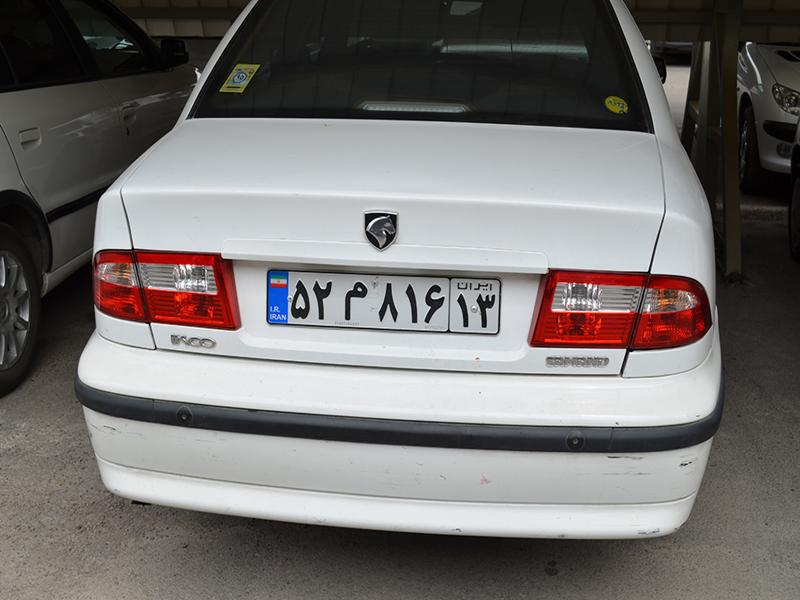Plate: (262, 262, 506, 343)
